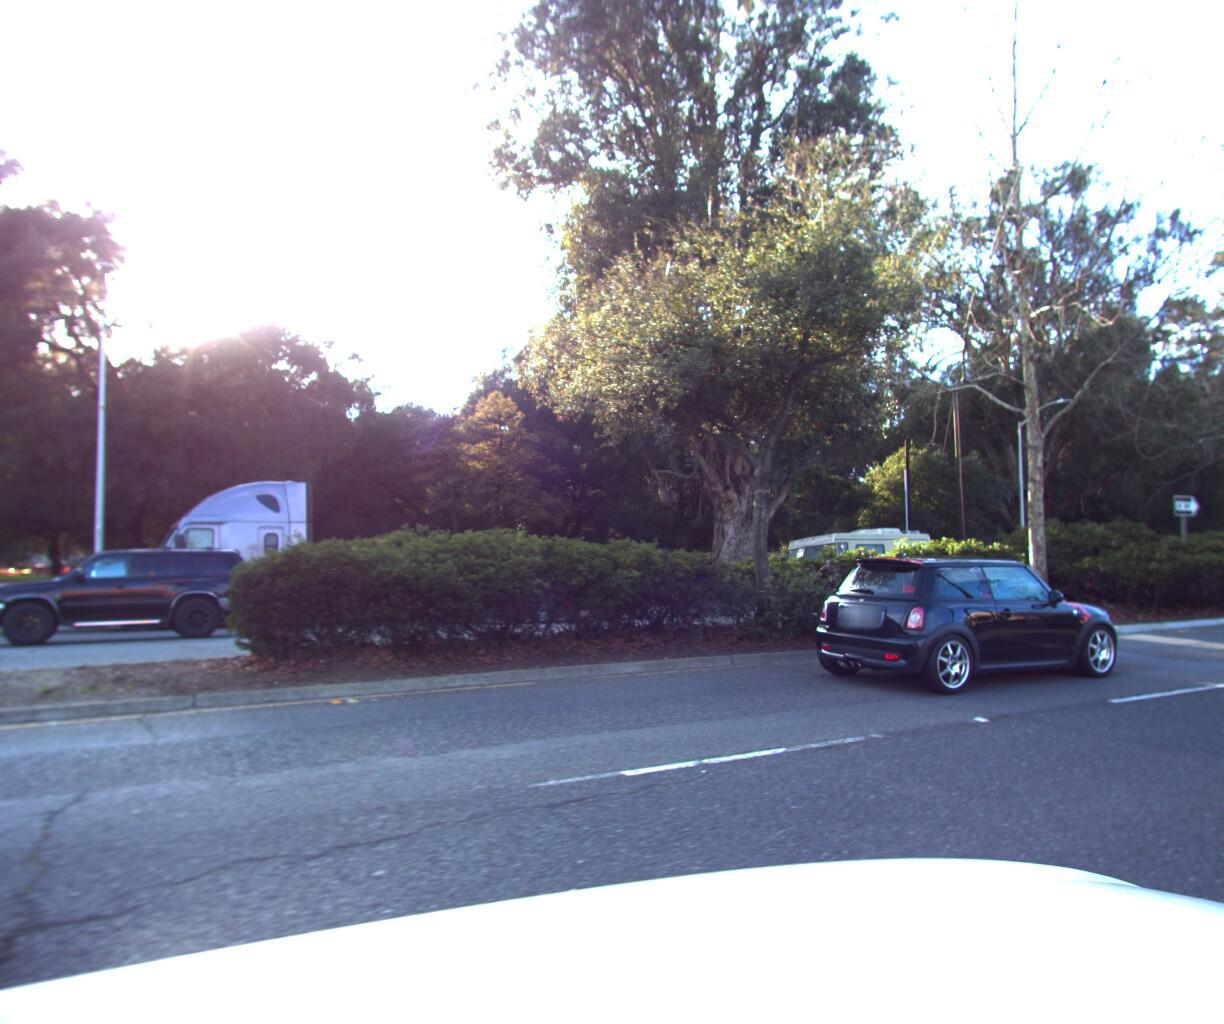car: (792, 541, 1116, 698), (0, 537, 269, 649)
other_vehicle: (770, 520, 939, 606)
truck: (74, 470, 429, 637)
